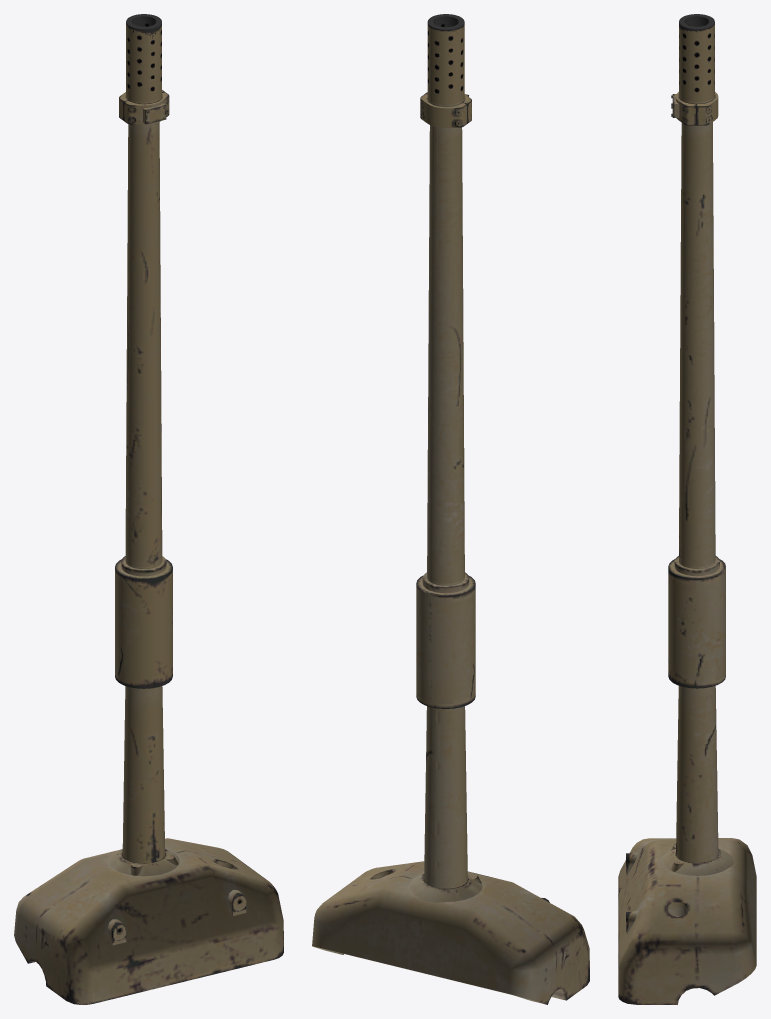
File: Gun_07.glb
3 renders of one model, left to right at view 1: azimuth 30°, elevation 25°; view 2: azimuth 150°, elevation 25°; view 3: azimuth 270°, elevation 25°, orthographic. The views are drawn at different scales.
Visible parts, largest first — view 1: set_0_group_0; view 2: set_0_group_0; view 3: set_0_group_0.
Boxes of the visible parts, x1,y1,x2,y2 form: set_0_group_0: (14, 14, 283, 1004); set_0_group_0: (312, 14, 589, 1004); set_0_group_0: (618, 14, 756, 1004).
Bounding box in the file's own units: 1.25 × 5.19 × 0.7004.
1 material, 1 textured.
